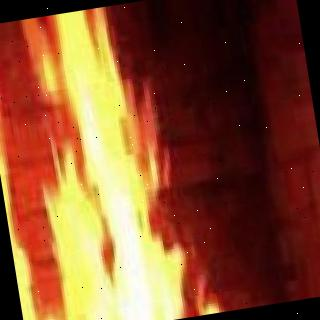fire: (0, 49, 229, 320)
